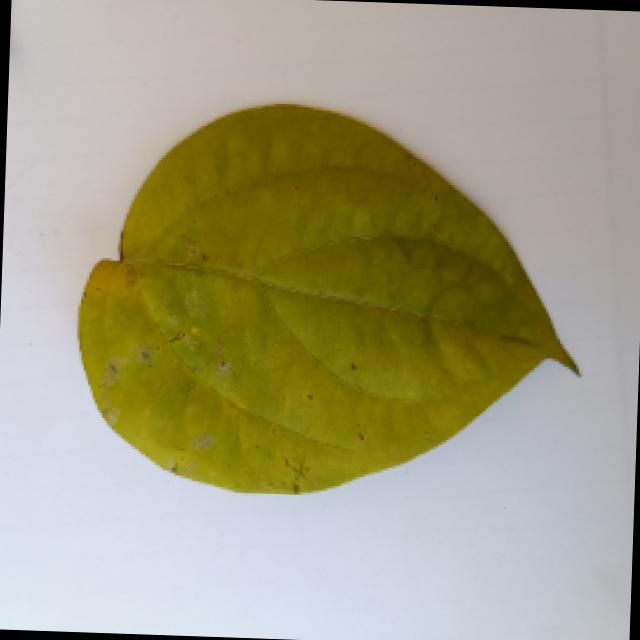slow-decline: (54, 91, 596, 504)
